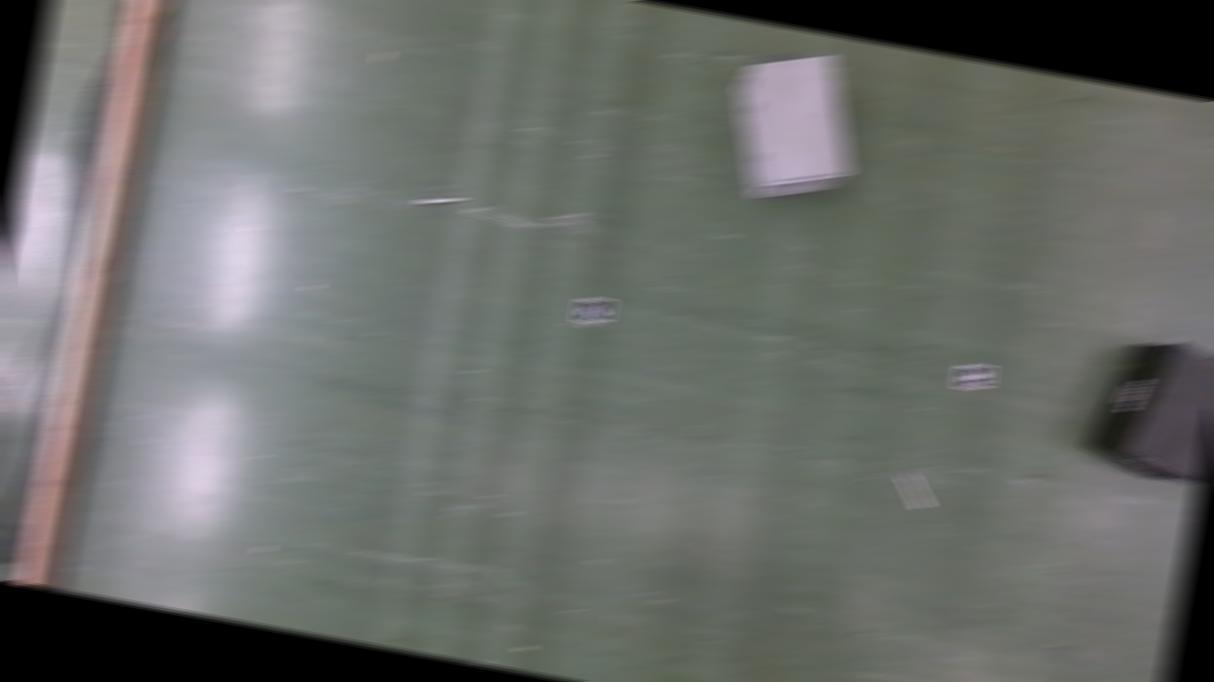probes: (894, 473, 932, 510), (414, 192, 462, 210)
rako: (715, 42, 870, 216), (1078, 331, 1214, 487)
